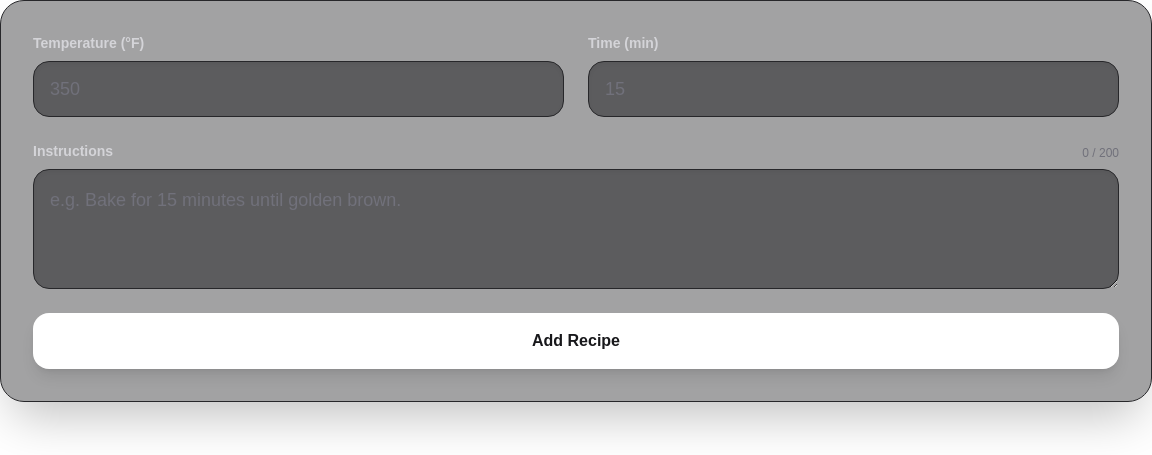
Test: RecipeForm Component › renders correctly and respects maxLength. Shows counter.
Expected: the number field labelled "Temperature (°F)" is shown, [33,61,564,117]
Expected: the number field labelled "Time (min)" is shown, [588,61,1119,117]
Type "Bake for 15m" into the text box labelled "Instructions 0 / 200".
click(576, 229); type("Bake for 15m")  # box [33,169,1119,289]
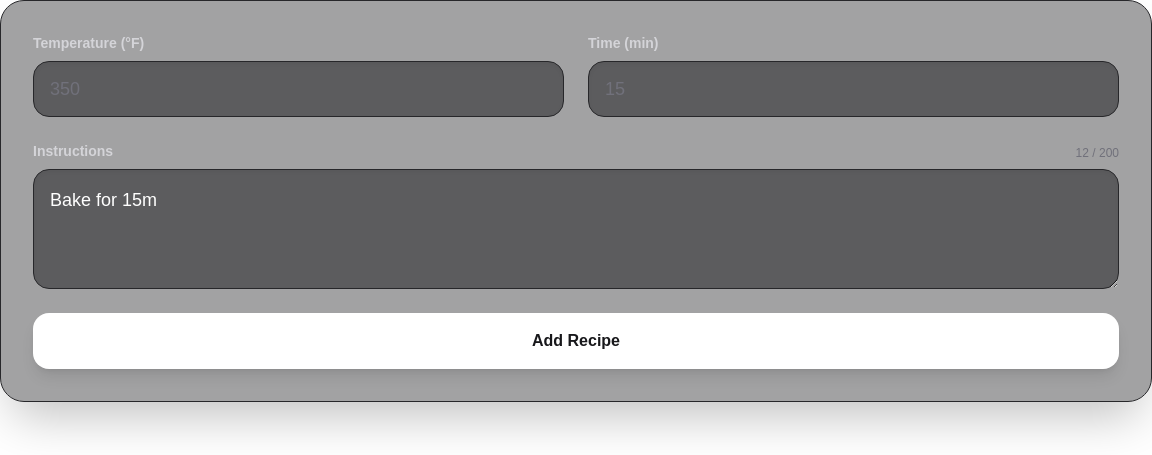
Expected: the text "12 / 200" is shown, [1076,145,1119,161]
